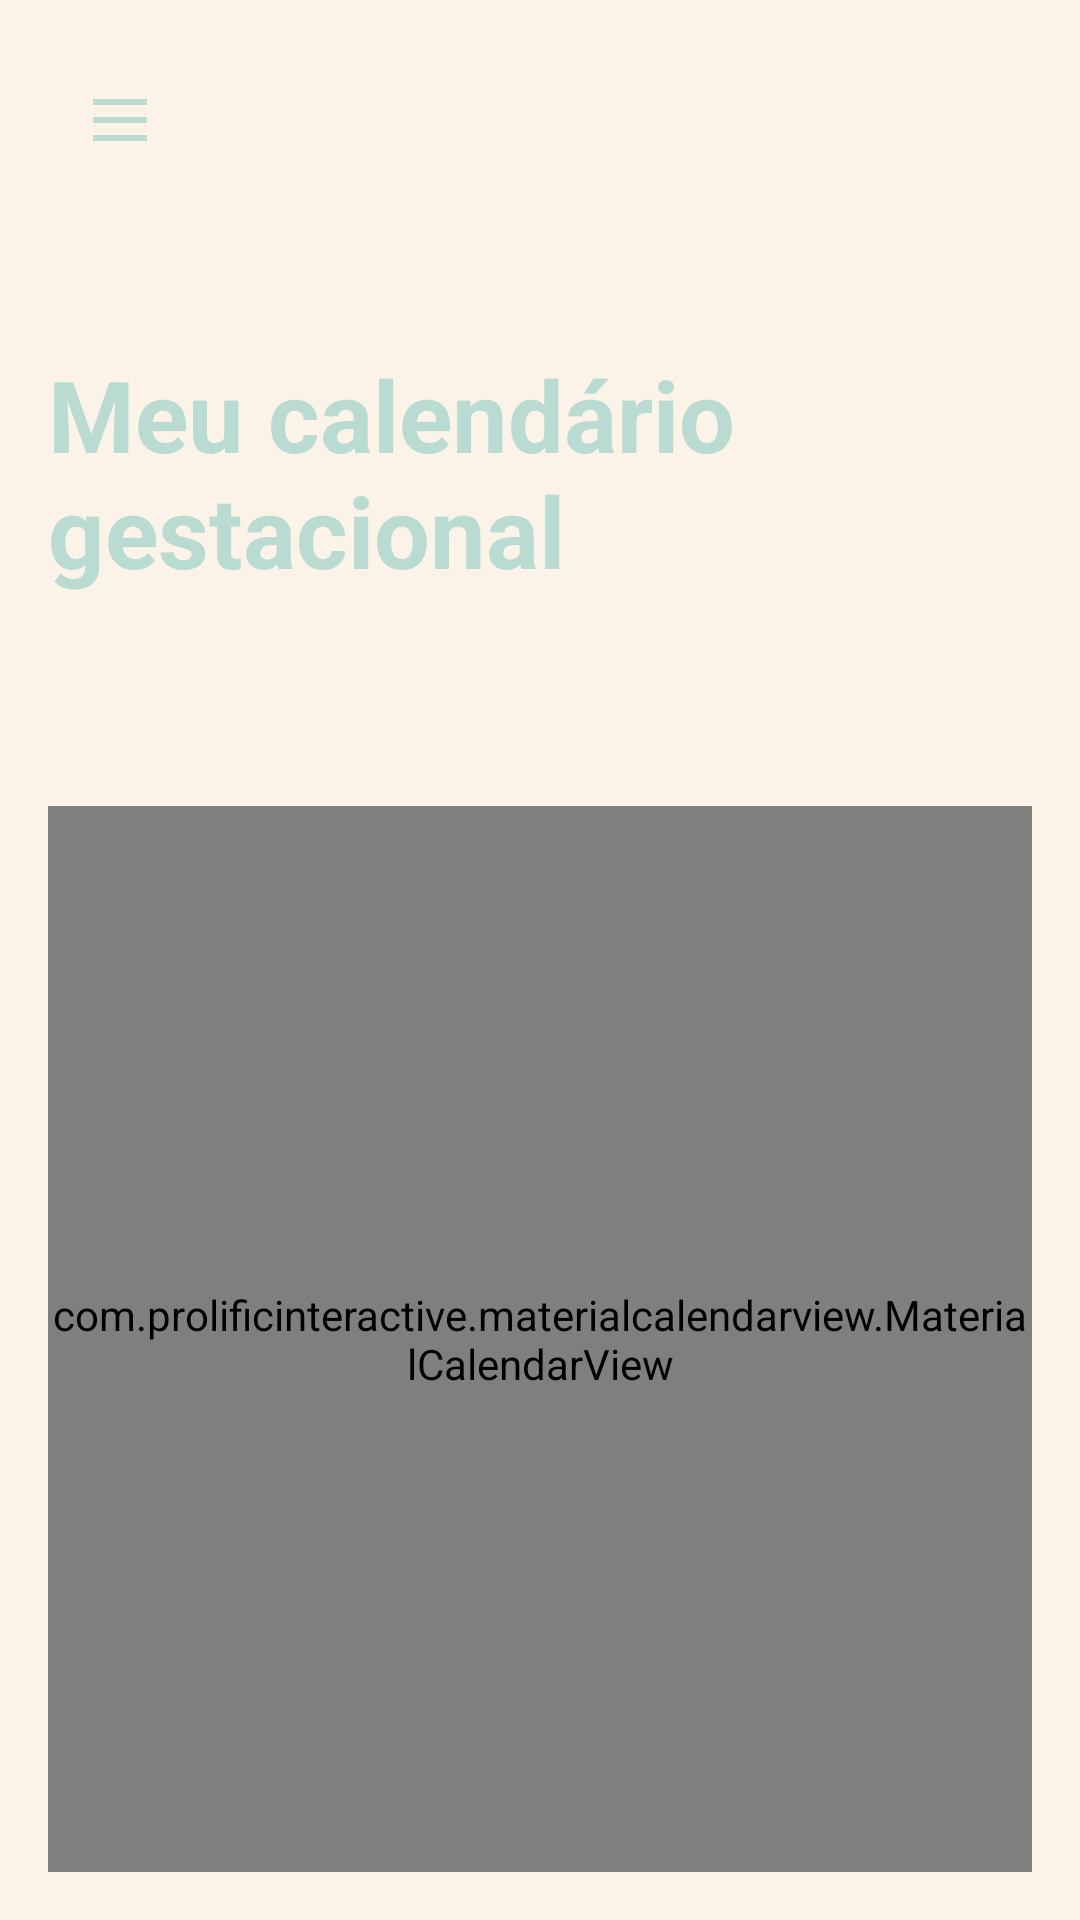

Icon click points for this 1080x1920 phone screenshot, format point (x, y):
Abrir Menu: point (120, 120)
